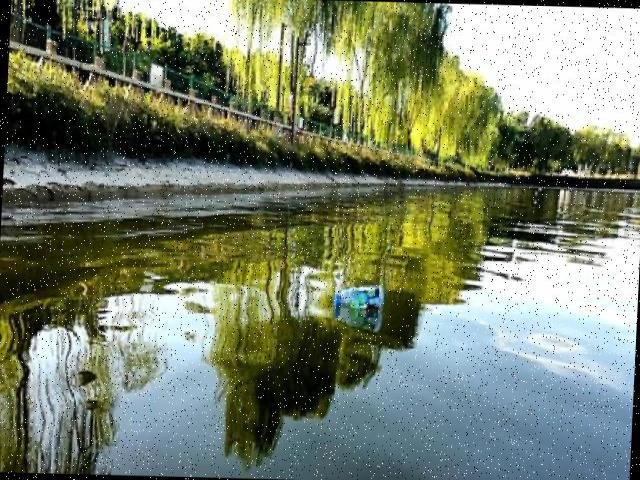Bottle: (320, 282, 397, 320)
